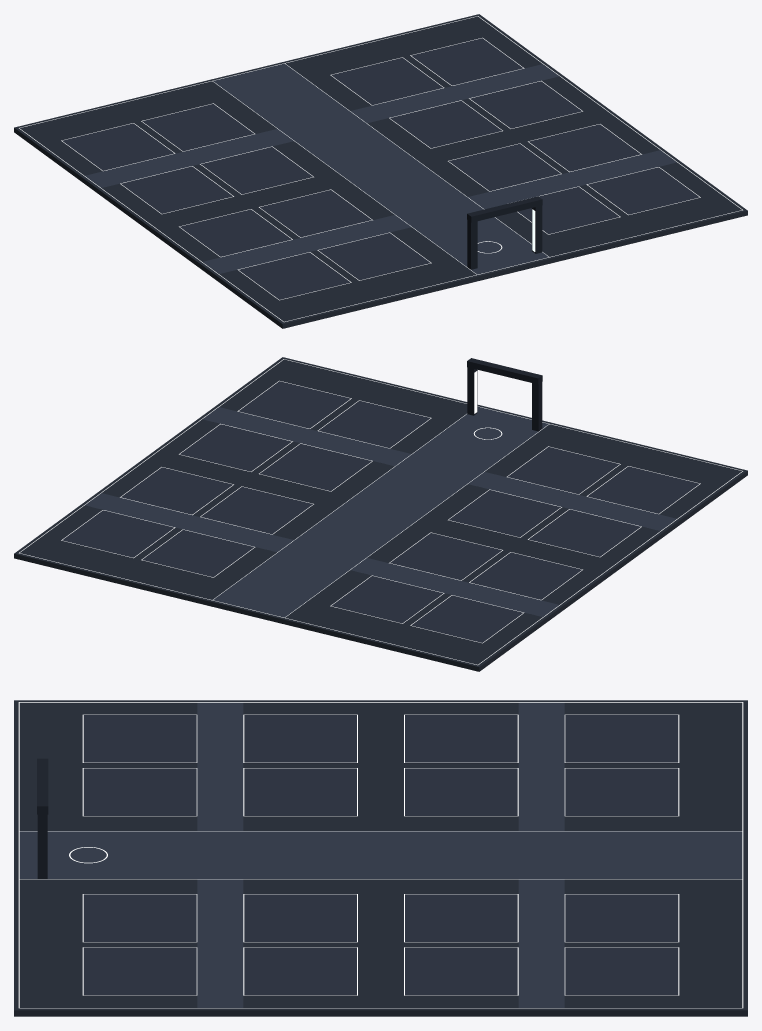
The picture shows the model from 3 angles, top to bottom: view 1: azimuth 30°, elevation 25°; view 2: azimuth 150°, elevation 25°; view 3: azimuth 270°, elevation 25°; orthographic projection. The views are drawn at different scales.
Parts seen in each view (by area): view 1: district_frontera.lod0; view 2: district_frontera.lod0; view 3: district_frontera.lod0.
Part boxes in pixels (x1,y1,x2,y2): district_frontera.lod0: (14, 14, 747, 328); district_frontera.lod0: (14, 357, 747, 671); district_frontera.lod0: (14, 700, 747, 1016).
Size of the model in its own units: 64 by 7.62 by 64.
